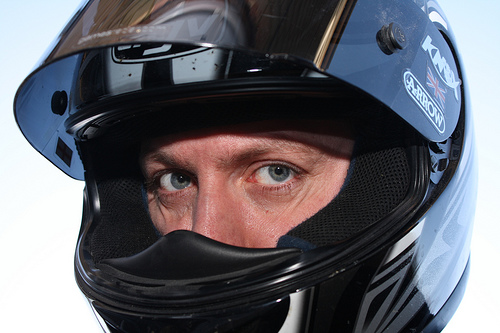helmet: (41, 6, 479, 323)
